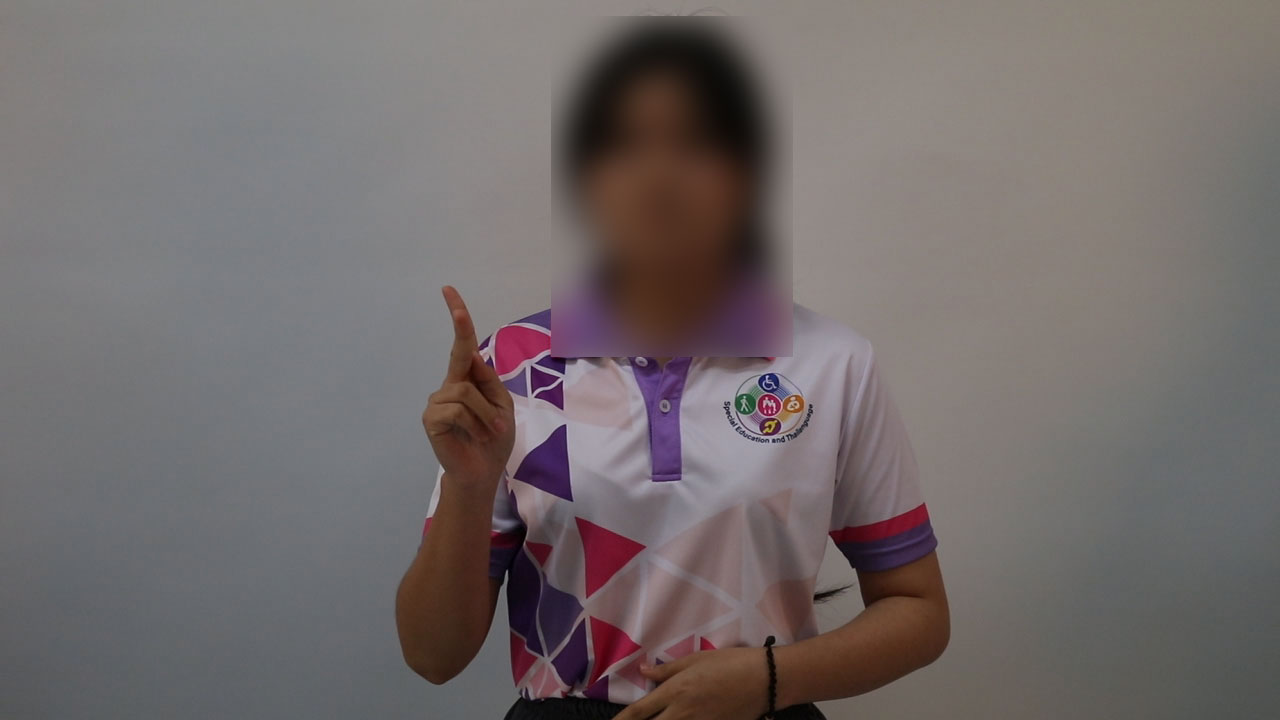ko: (403, 282, 525, 477)
